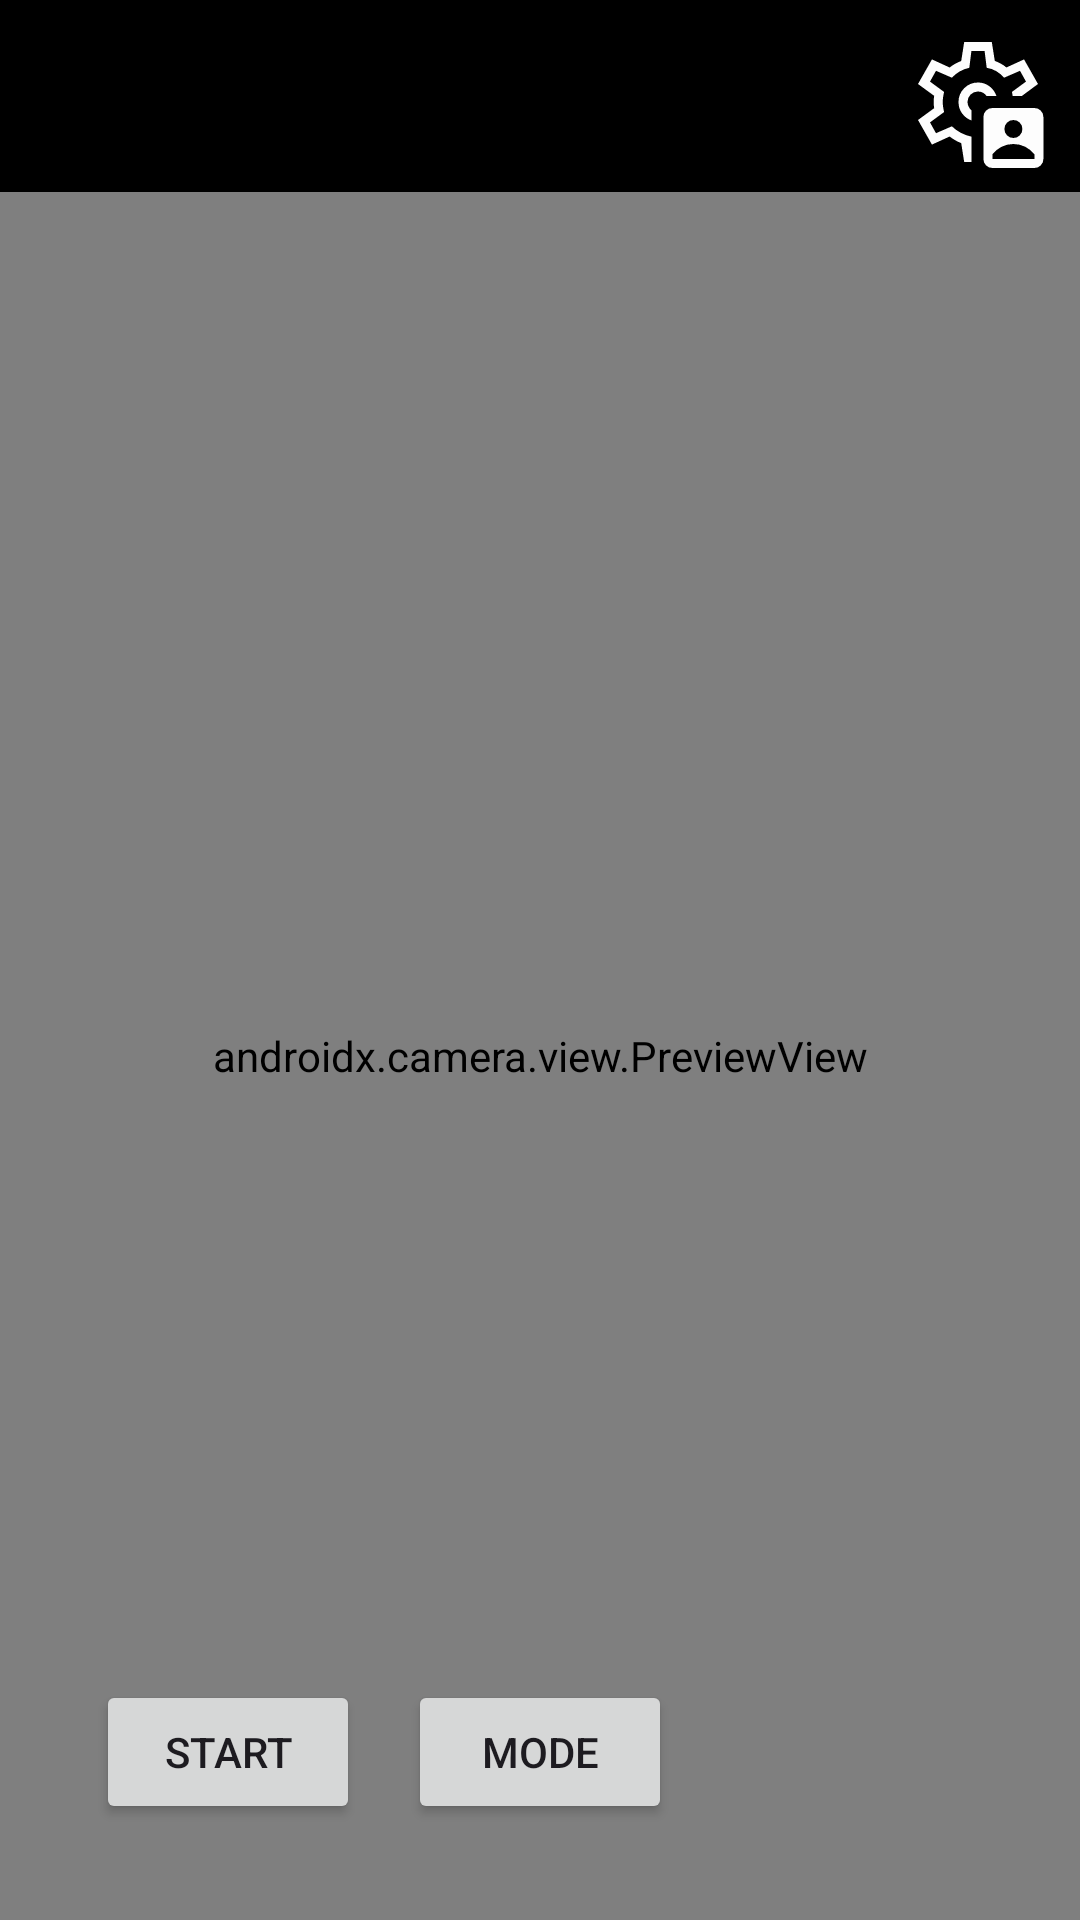

Locate icon controls on the screen. Image size 1080 x 1920, boxes as detection(x1, y1, x2, y2).
settings: detection(918, 42, 1044, 168)
